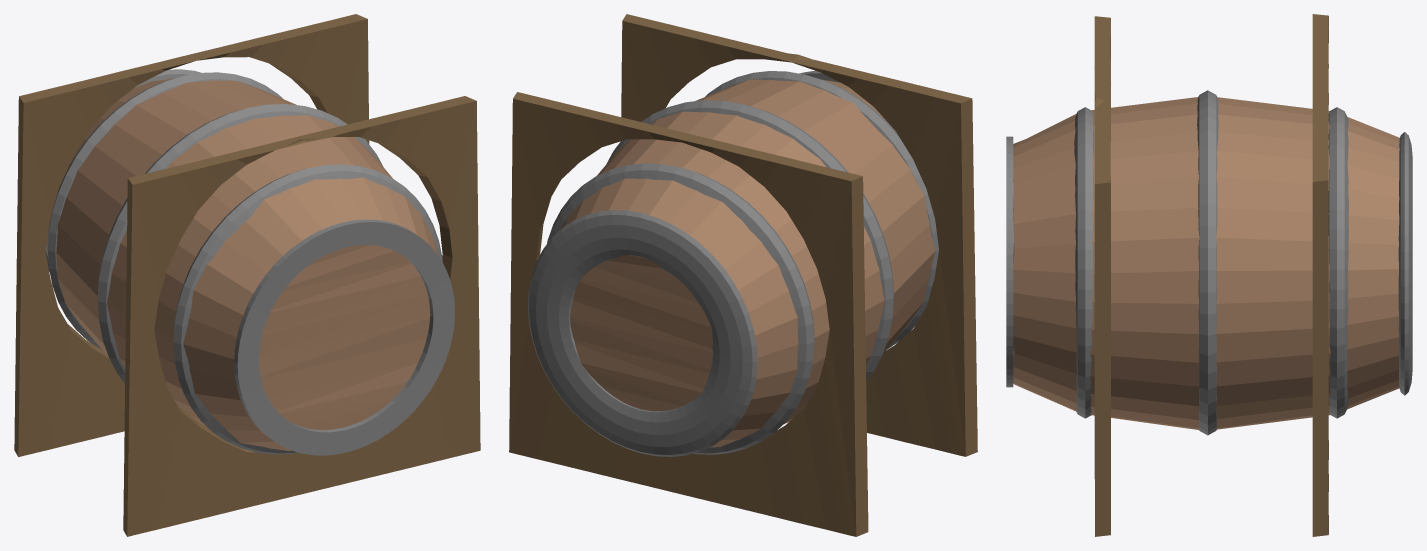
Rendered from SidewaysBarrel.dae.
3 views of the same model, side by side, from view 1: azimuth 30°, elevation 25°; view 2: azimuth 150°, elevation 25°; view 3: azimuth 270°, elevation 25° (orthographic).
Visible parts, largest first — view 1: Cylinder, Circle_001, Circle, Cylinder_001, Torus_002, Torus, Torus_003; view 2: Cylinder, Circle, Circle_001, Torus_001, Torus_003, Torus, Torus_002; view 3: Cylinder, Circle, Circle_001, Torus, Torus_003, Torus_002, Torus_001, Cylinder_001.
Boxes of the visible parts, x1,y1,x2,y2 form: Cylinder: (46, 78, 438, 450); Circle_001: (123, 96, 480, 536); Circle: (14, 14, 369, 456); Cylinder_001: (234, 219, 454, 455); Torus_002: (173, 164, 442, 454); Torus: (97, 104, 383, 383); Torus_003: (47, 72, 282, 349); Cylinder: (559, 79, 935, 447); Circle: (509, 92, 868, 536); Circle_001: (621, 14, 977, 456); Torus_001: (528, 210, 757, 456); Torus_003: (547, 163, 814, 454); Torus: (606, 100, 893, 380); Torus_002: (705, 71, 938, 349); Cylinder: (1013, 97, 1399, 429); Circle: (1312, 14, 1328, 536); Circle_001: (1094, 16, 1110, 536); Torus: (1197, 90, 1218, 435); Torus_003: (1328, 107, 1348, 418); Torus_002: (1074, 107, 1093, 418); Torus_001: (1398, 132, 1412, 395); Cylinder_001: (1006, 136, 1014, 387).
Bounding box in the file's own units: 3.79 × 3.77 × 3.61.
